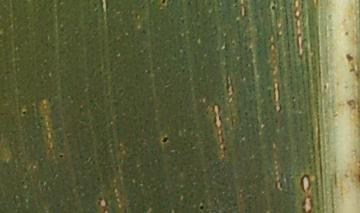tarspot: (159, 134, 170, 145), (197, 202, 208, 213), (19, 108, 28, 119), (56, 152, 65, 161), (159, 1, 169, 6)
